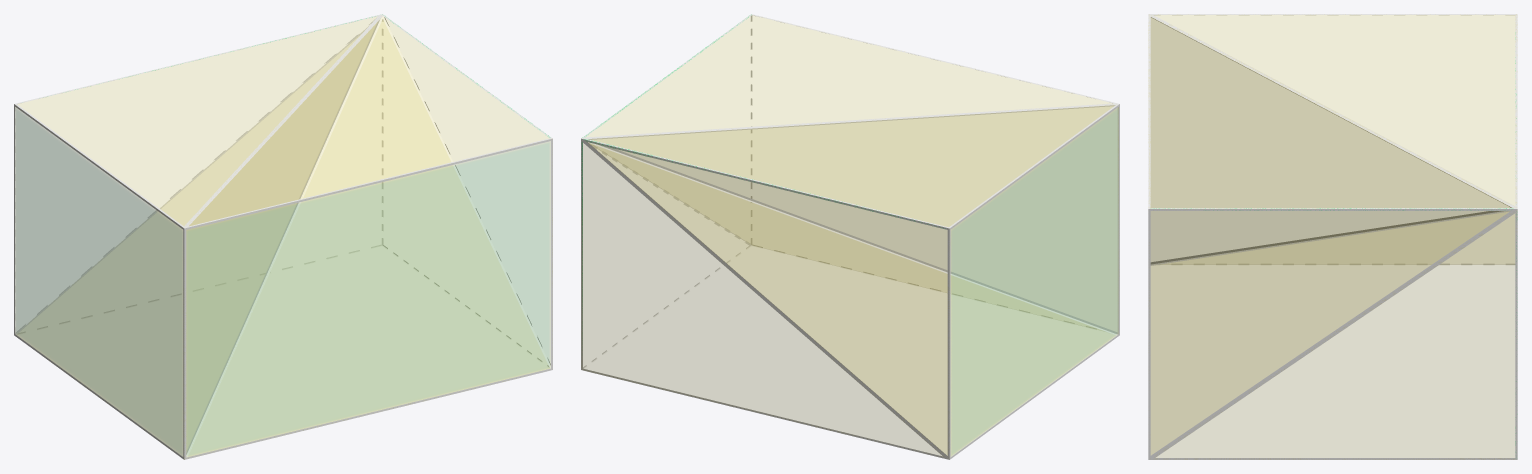
3 renders of one model, left to right at view 1: azimuth 30°, elevation 25°; view 2: azimuth 150°, elevation 25°; view 3: azimuth 270°, elevation 25°, orthographic. The views are drawn at different scales.
Parts seen in each view (by area): view 1: pyramid2, pyramid3, pyramid1, boxf, pyramidf3, pyramidf1, boxb, pyramidb2, pyramidf2, pyramidb1; view 2: pyramid1, pyramid3, pyramid2, boxf, pyramidf2, pyramidf3, pyramidf1, boxb, pyramidb1; view 3: pyramid1, pyramid2, pyramid3, boxf, pyramidf2, pyramidf1, pyramidf3, boxb, pyramidb2.
Boxes of the visible parts, <box> form: pyramid2: <box>184,16,552,459</box>; pyramid3: <box>17,20,549,456</box>; pyramid1: <box>15,16,377,458</box>; boxf: <box>14,14,552,459</box>; pyramidf3: <box>16,16,550,457</box>; pyramidf1: <box>18,14,381,453</box>; boxb: <box>15,19,549,368</box>; pyramidb2: <box>186,16,550,456</box>; pyramidf2: <box>185,15,550,227</box>; pyramidb1: <box>15,18,376,334</box>; pyramid1: <box>585,105,1118,457</box>; pyramid3: <box>581,140,1114,457</box>; pyramid2: <box>586,15,1118,331</box>; boxf: <box>581,14,1119,459</box>; pyramidf2: <box>582,14,1118,333</box>; pyramidf3: <box>581,139,1116,459</box>; pyramidf1: <box>582,104,1116,459</box>; boxb: <box>583,15,1112,368</box>; pyramidb1: <box>614,107,1118,334</box>; pyramid1: <box>1151,14,1517,263</box>; pyramid2: <box>1148,17,1511,454</box>; pyramid3: <box>1151,212,1516,459</box>; boxf: <box>1148,14,1517,459</box>; pyramidf2: <box>1148,15,1515,459</box>; pyramidf1: <box>1149,14,1516,264</box>; pyramidf3: <box>1150,211,1517,459</box>; boxb: <box>1154,15,1515,265</box>; pyramidb2: <box>1150,211,1508,265</box>.
Bounding box in the file's own units: 10 × 6 × 8.
Materials: 2 (2 with a texture image).
